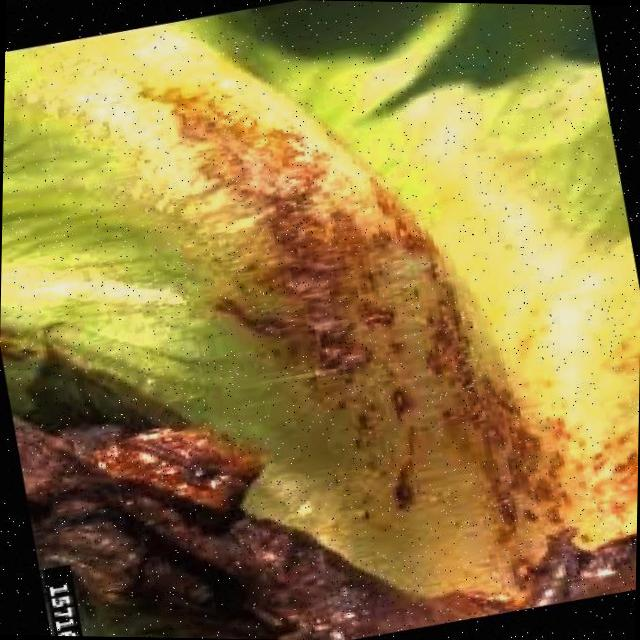Septoria_Blight: (0, 17, 581, 640)
